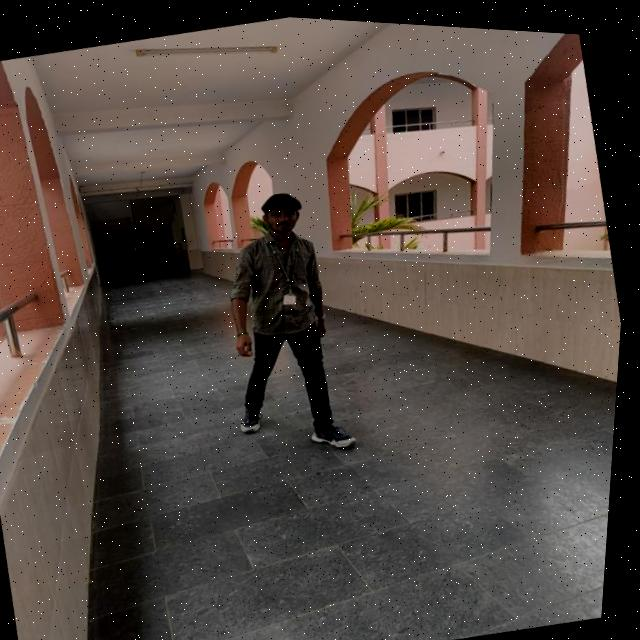id_card: (257, 229, 312, 308)
